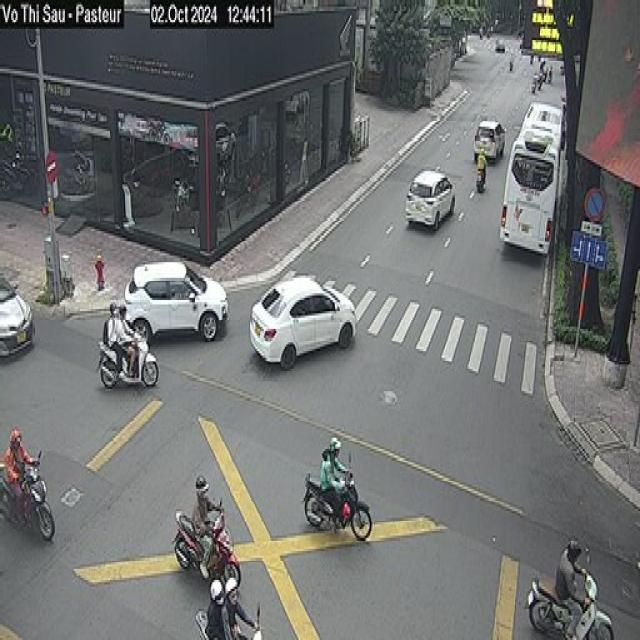bus: (502, 97, 564, 260)
car: (248, 276, 357, 367), (125, 262, 230, 346), (1, 267, 36, 363), (404, 166, 456, 230), (474, 112, 506, 161), (495, 34, 507, 58)
motorcycle: (528, 579, 611, 640), (172, 510, 240, 582), (302, 472, 372, 541), (0, 458, 55, 540), (95, 335, 158, 387), (190, 615, 264, 640)
person: (559, 531, 582, 638), (6, 426, 30, 523), (320, 427, 345, 519), (193, 466, 215, 568), (221, 580, 245, 636), (117, 301, 135, 372), (103, 295, 120, 370), (209, 573, 225, 635), (475, 142, 487, 176)
